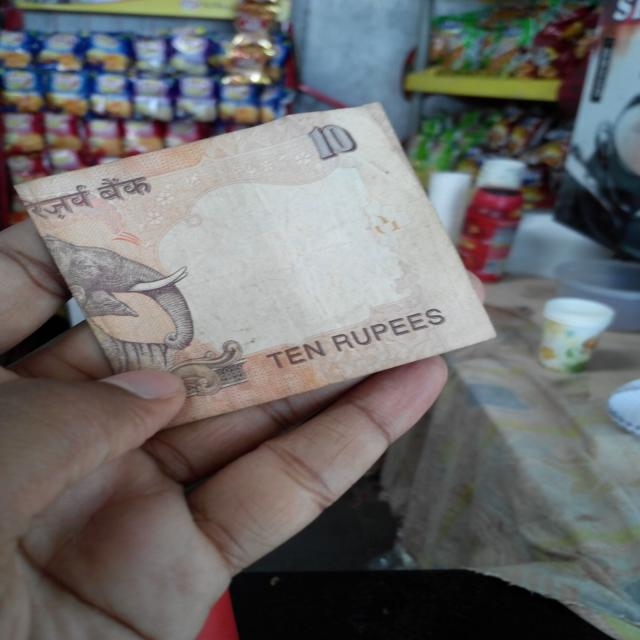10rs: (11, 103, 498, 394)
